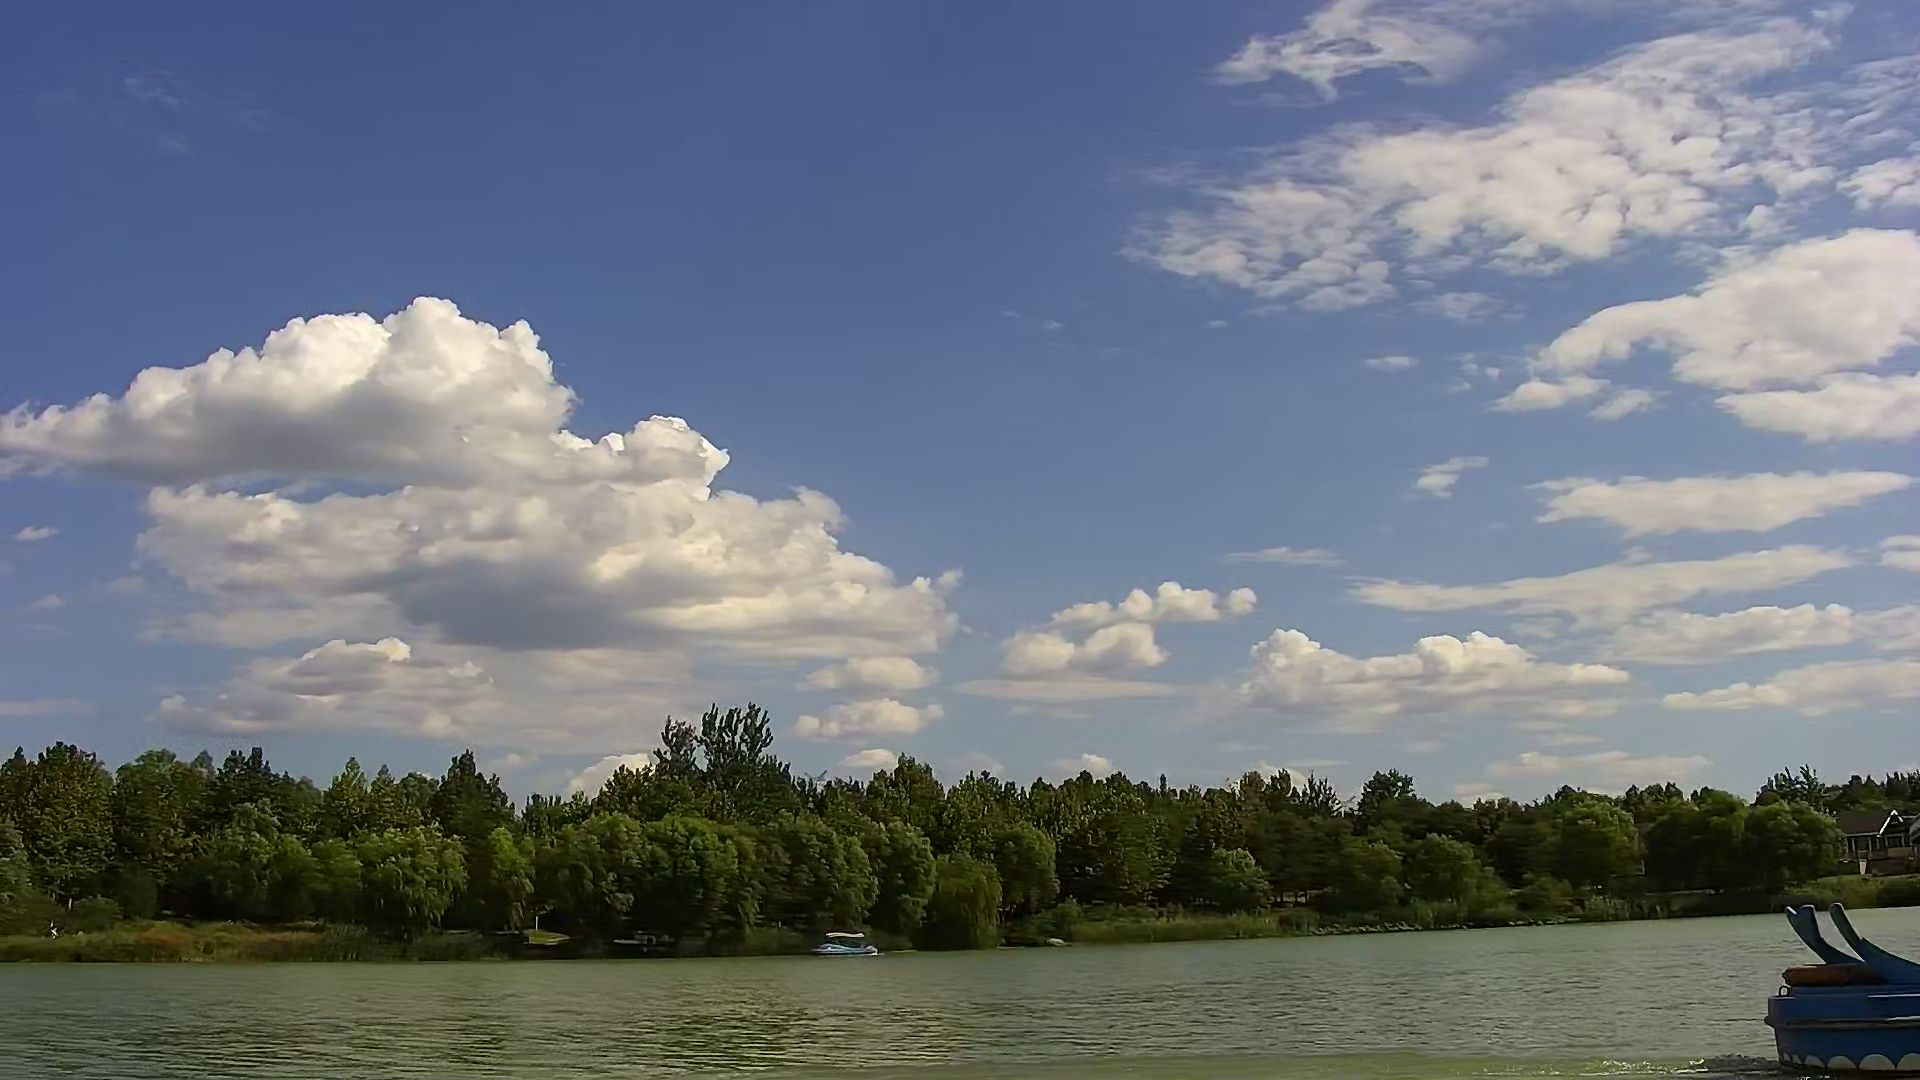boat: (1767, 893, 1917, 1076), (812, 926, 881, 956)
